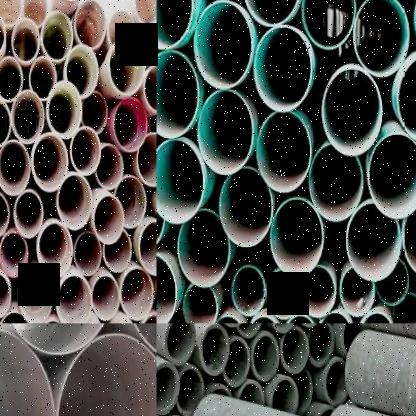pipe: (51, 329, 156, 416), (322, 65, 383, 155), (0, 324, 58, 416), (194, 0, 253, 88), (253, 25, 312, 112), (197, 89, 254, 175), (256, 112, 311, 193), (346, 201, 401, 281), (353, 0, 410, 77), (219, 166, 273, 247), (309, 143, 363, 223), (270, 197, 324, 276), (367, 132, 416, 218), (156, 138, 205, 224), (177, 209, 231, 287), (0, 324, 122, 356), (156, 50, 198, 138), (300, 0, 355, 49), (31, 132, 68, 192), (46, 80, 82, 139), (36, 222, 73, 279), (109, 38, 145, 95), (113, 96, 148, 152), (57, 174, 92, 230), (300, 264, 336, 318), (119, 267, 154, 321), (11, 90, 44, 144), (114, 175, 147, 229), (156, 0, 193, 48), (18, 271, 52, 323), (396, 54, 416, 142), (340, 268, 375, 318), (65, 46, 99, 97), (266, 269, 300, 320), (56, 275, 92, 323), (40, 10, 73, 62), (232, 266, 266, 316), (0, 140, 30, 196), (92, 195, 124, 245), (74, 0, 106, 49), (376, 259, 410, 305), (70, 126, 101, 175), (243, 0, 301, 26), (250, 332, 280, 382), (201, 324, 230, 375), (176, 365, 205, 416), (280, 325, 309, 375), (14, 190, 44, 238), (182, 283, 218, 323), (223, 337, 251, 388), (157, 254, 177, 324), (164, 324, 196, 366), (12, 17, 40, 64), (91, 276, 120, 321), (0, 231, 28, 277), (95, 145, 124, 189), (29, 55, 56, 102), (401, 196, 416, 278), (103, 230, 132, 272), (74, 232, 102, 275), (81, 90, 108, 134), (307, 324, 335, 366), (324, 357, 348, 406), (157, 362, 179, 414), (270, 377, 298, 416), (108, 10, 136, 48), (0, 56, 23, 102), (137, 132, 156, 186), (138, 220, 156, 276), (392, 292, 416, 324), (22, 0, 47, 29), (143, 64, 157, 113), (342, 324, 362, 356), (237, 382, 264, 405), (0, 0, 21, 28), (0, 96, 11, 147), (135, 0, 156, 26), (0, 272, 11, 319), (360, 310, 396, 323), (317, 311, 353, 323), (236, 323, 264, 338), (0, 191, 8, 238), (283, 314, 318, 323), (210, 314, 245, 323), (245, 315, 282, 323), (0, 11, 6, 59)
